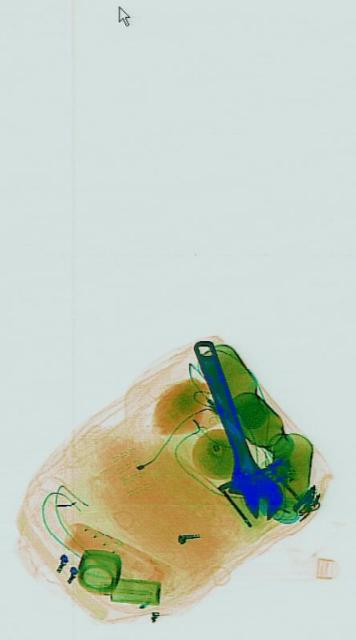Wrench: (178, 316, 285, 542)
